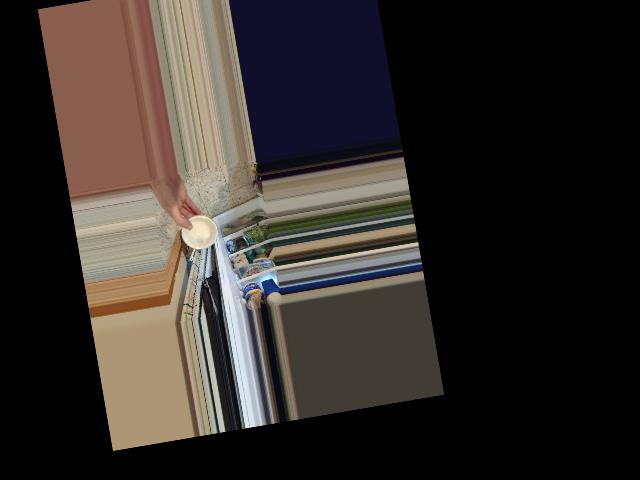cotage: (181, 211, 220, 253)
